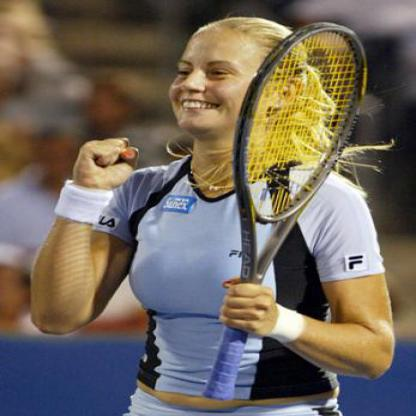face: (160, 19, 283, 138)
